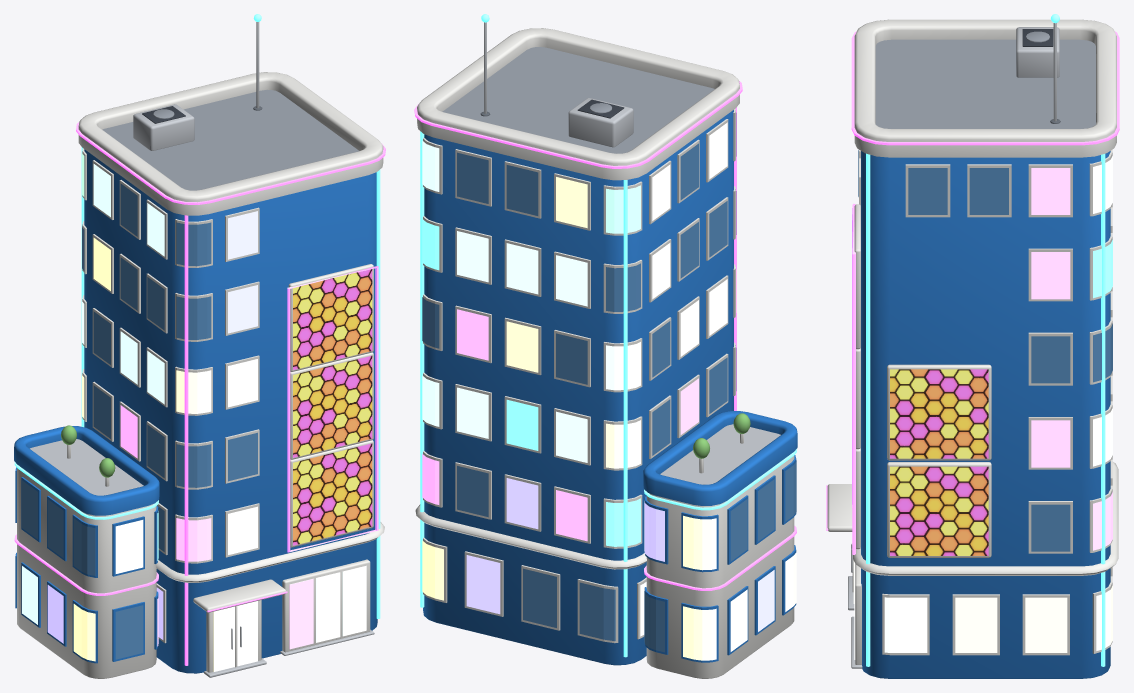
The model's file is predio_colmeia.glb.
3 renders of one model, left to right at view 1: azimuth 30°, elevation 25°; view 2: azimuth 150°, elevation 25°; view 3: azimuth 270°, elevation 25°, orthographic. The views are drawn at different scales.
Parts seen in each view (by area): view 1: predio_colmeia; view 2: predio_colmeia; view 3: predio_colmeia.
Boxes of the visible parts, box(x1,y1,x2,y2) form: predio_colmeia: box(14, 14, 385, 678); predio_colmeia: box(414, 14, 797, 678); predio_colmeia: box(826, 14, 1119, 678).
Bounding box in the file's own units: 12.94 × 24.4 × 10.12.
Materials: 13 (2 with a texture image).
